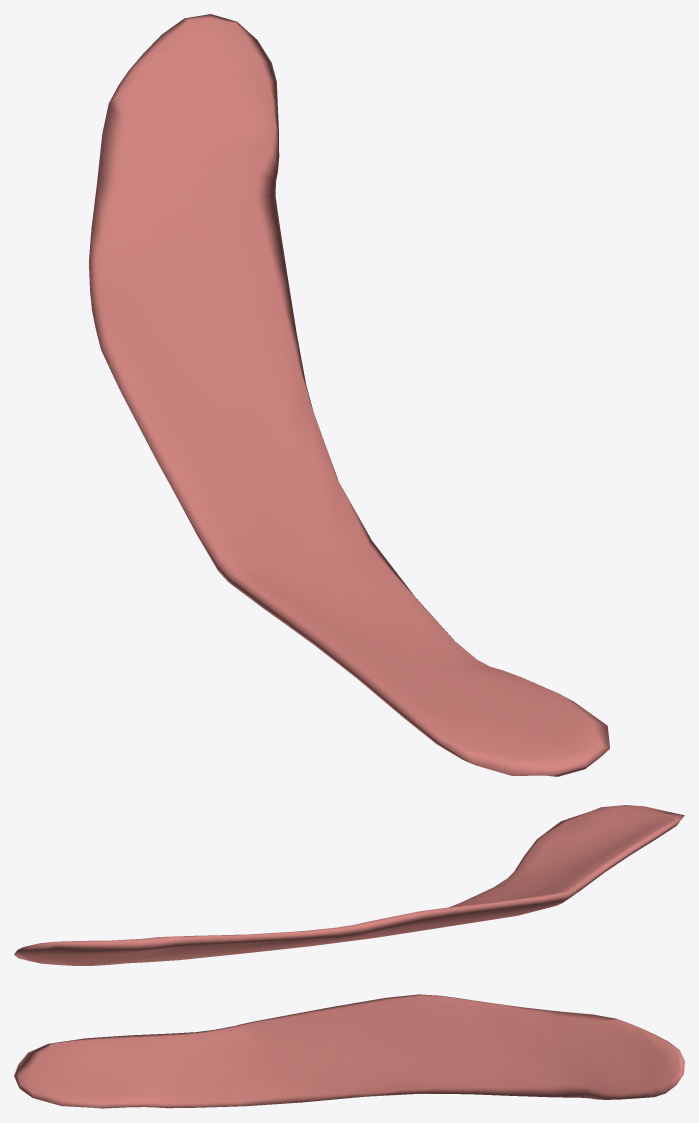
3 views of the same model, one above another, from view 1: azimuth 30°, elevation 25°; view 2: azimuth 150°, elevation 25°; view 3: azimuth 270°, elevation 25° (orthographic). The views are drawn at different scales.
Visible parts, largest first — view 1: ZA_078d2005ab01b517; view 2: ZA_078d2005ab01b517; view 3: ZA_078d2005ab01b517.
Part boxes in pixels (x1,y1,x2,y2): ZA_078d2005ab01b517: [89, 14, 609, 776]; ZA_078d2005ab01b517: [14, 805, 684, 965]; ZA_078d2005ab01b517: [14, 994, 684, 1108].
Size of the model in its own units: 0.0135 by 0.00622 by 0.0335.
